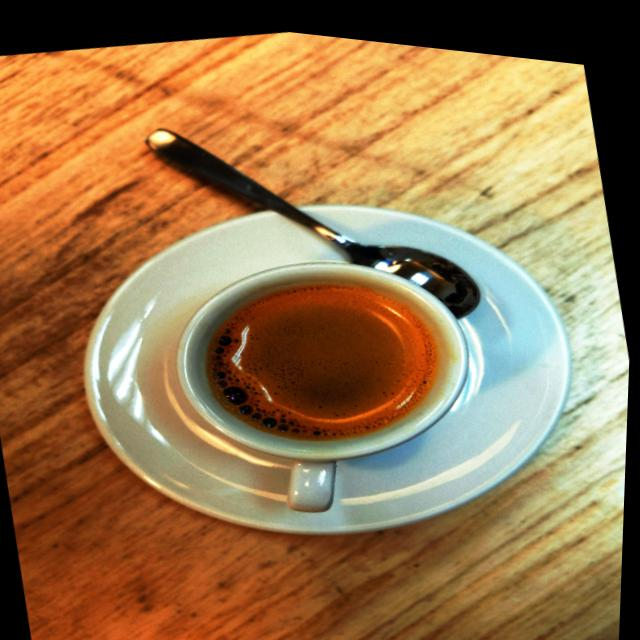drink: (166, 257, 472, 461)
